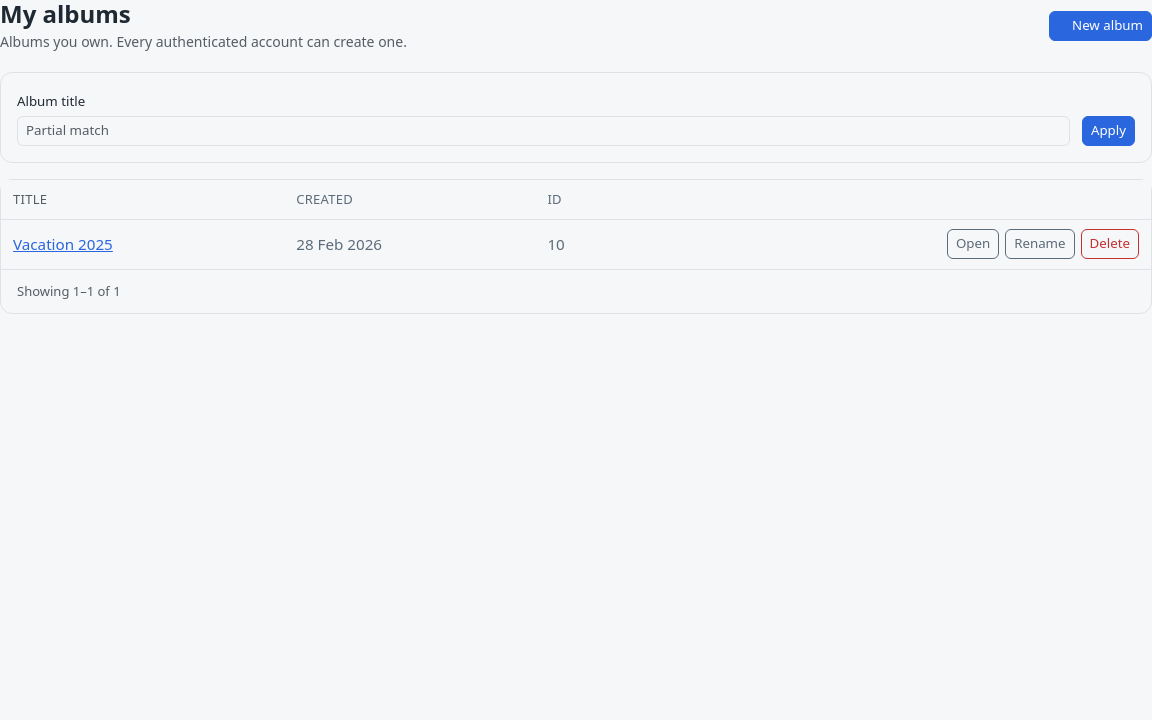
it: My albums › abandons a rename when the dialog is closed
This screenshot has width=1152, height=720.
Click the button "Rename": (1040, 244) [1005,229,1075,259]
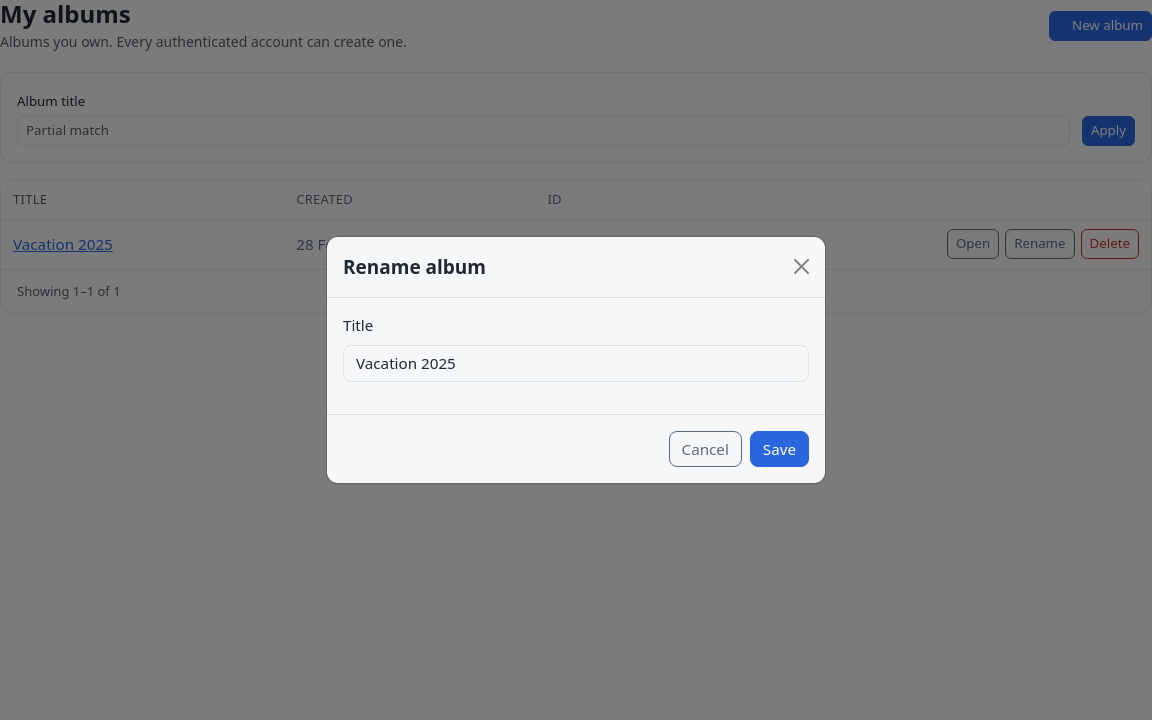
In the field labelled "Title": (576, 363) [343,345,809,382], type " edited"
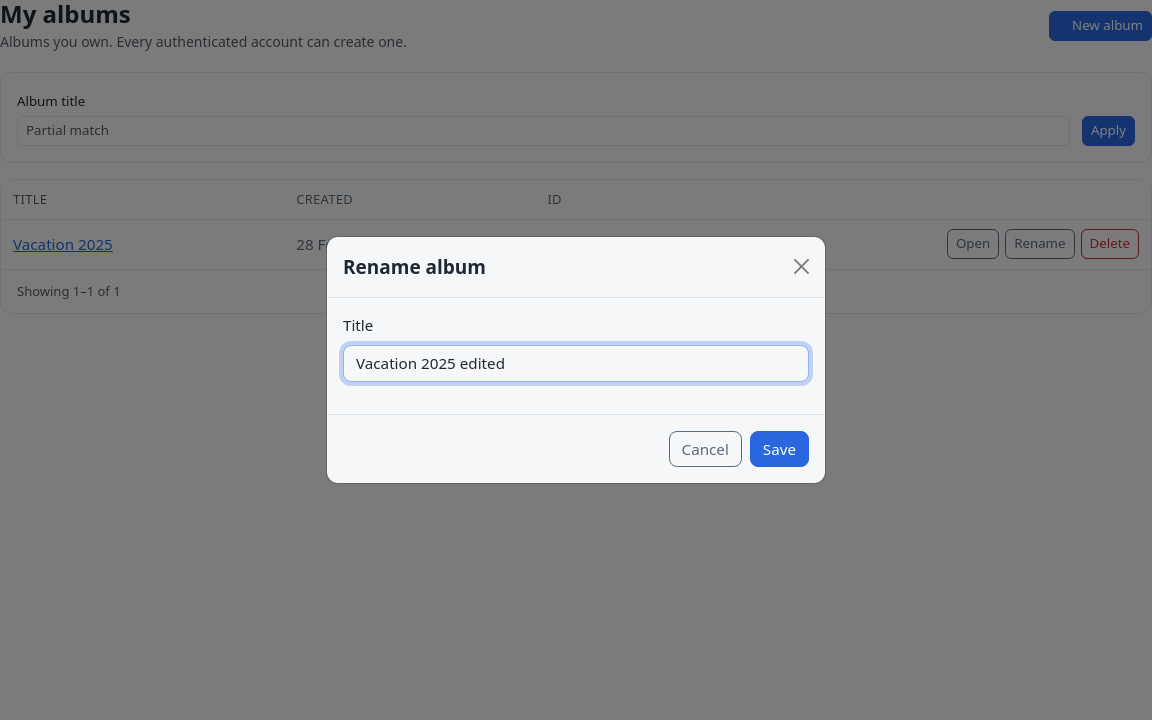
Click the button "Cancel": (705, 449) [669,431,742,467]
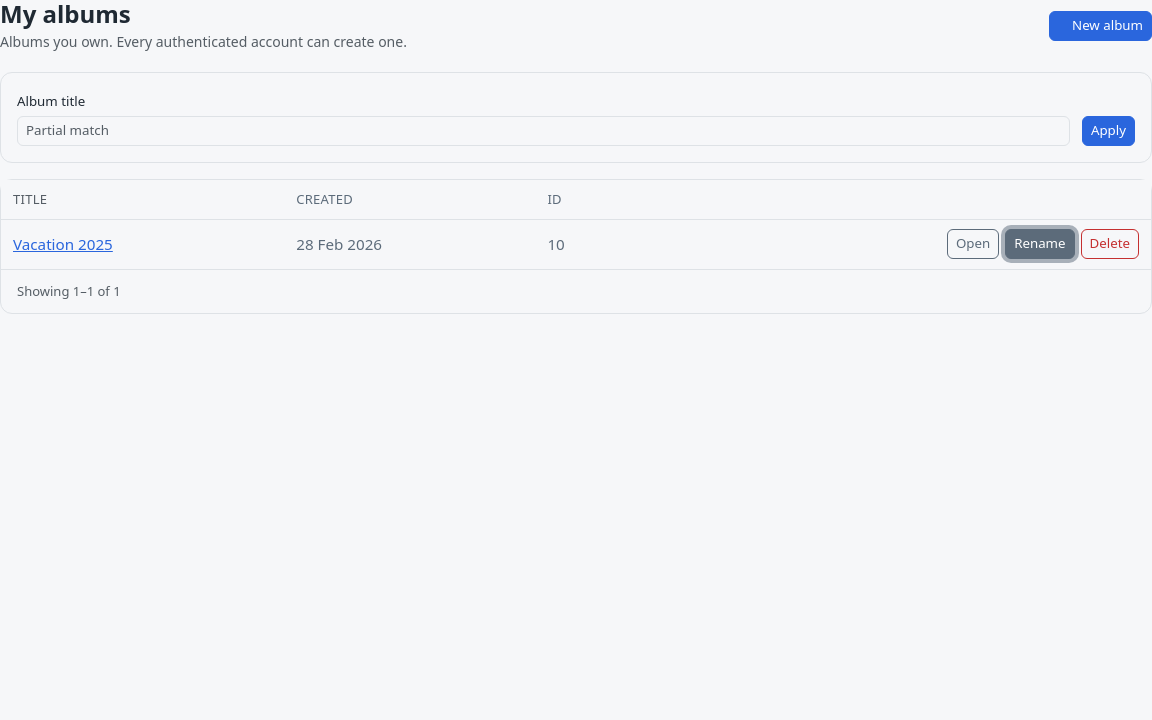
expect the link "Vacation 2025" is shown: met, box [13,234,113,254]
expect the dialog is gone: met
